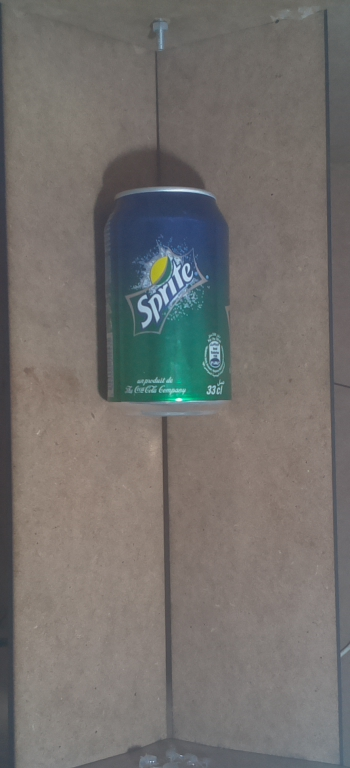Canette: (95, 184, 238, 415)
